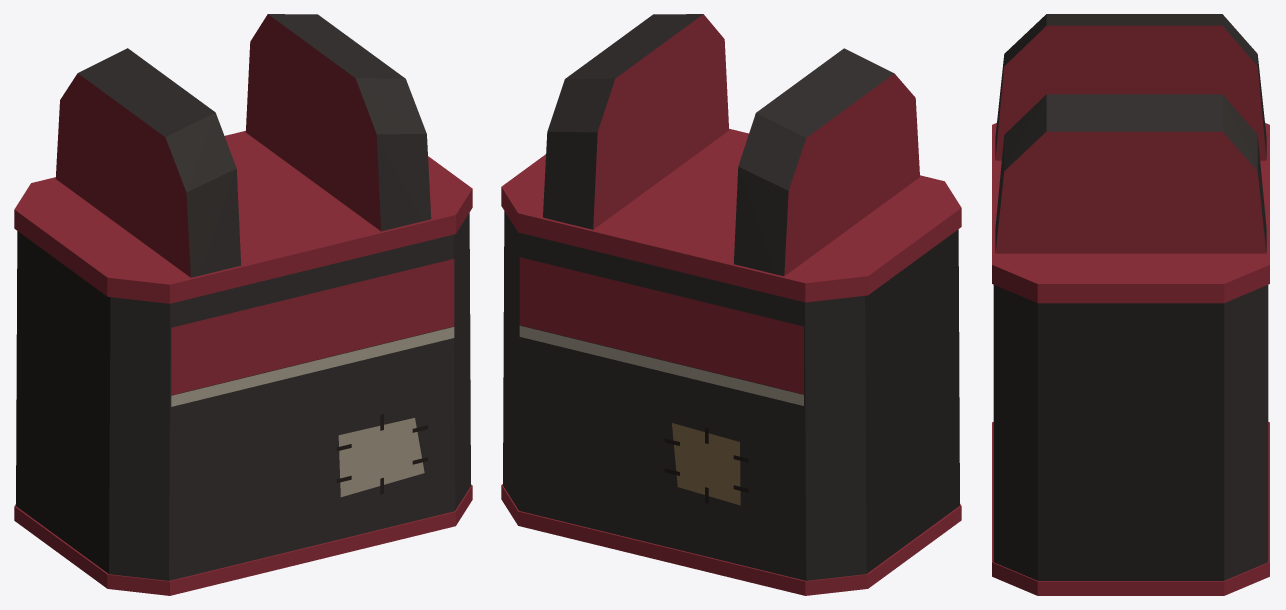
The model's file is tl_wear_tank_top_v01.glb.
3 renders of one model, left to right at view 1: azimuth 30°, elevation 25°; view 2: azimuth 150°, elevation 25°; view 3: azimuth 270°, elevation 25°, orthographic.
Visible parts, largest first — view 1: fit_spine; view 2: fit_spine; view 3: fit_spine.
Boxes of the visible parts, x1=… form: fit_spine: x1=14, y1=14, x2=472, y2=595; fit_spine: x1=501, y1=14, x2=961, y2=595; fit_spine: x1=992, y1=14, x2=1269, y2=595.
Size of the model in its own units: 0.48 by 0.56 by 0.32.
